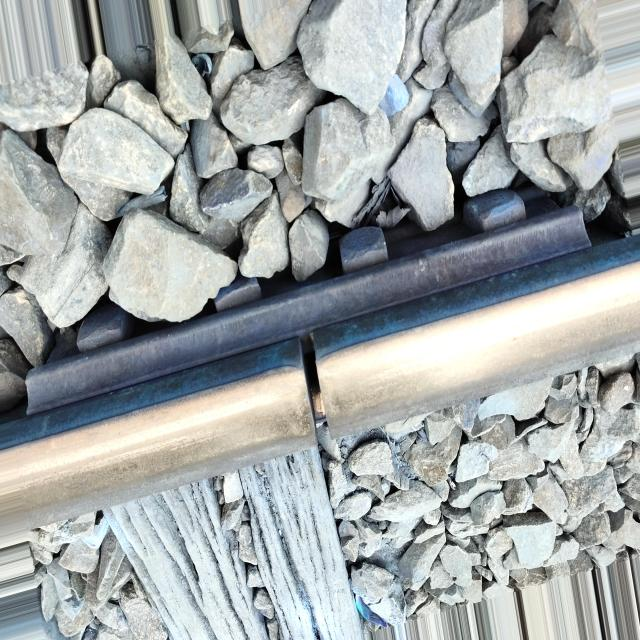crack: (280, 312, 350, 447)
